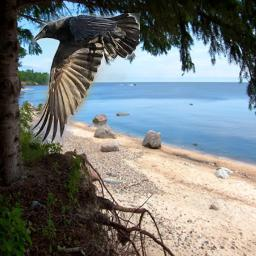Crow: (30, 13, 140, 143)
